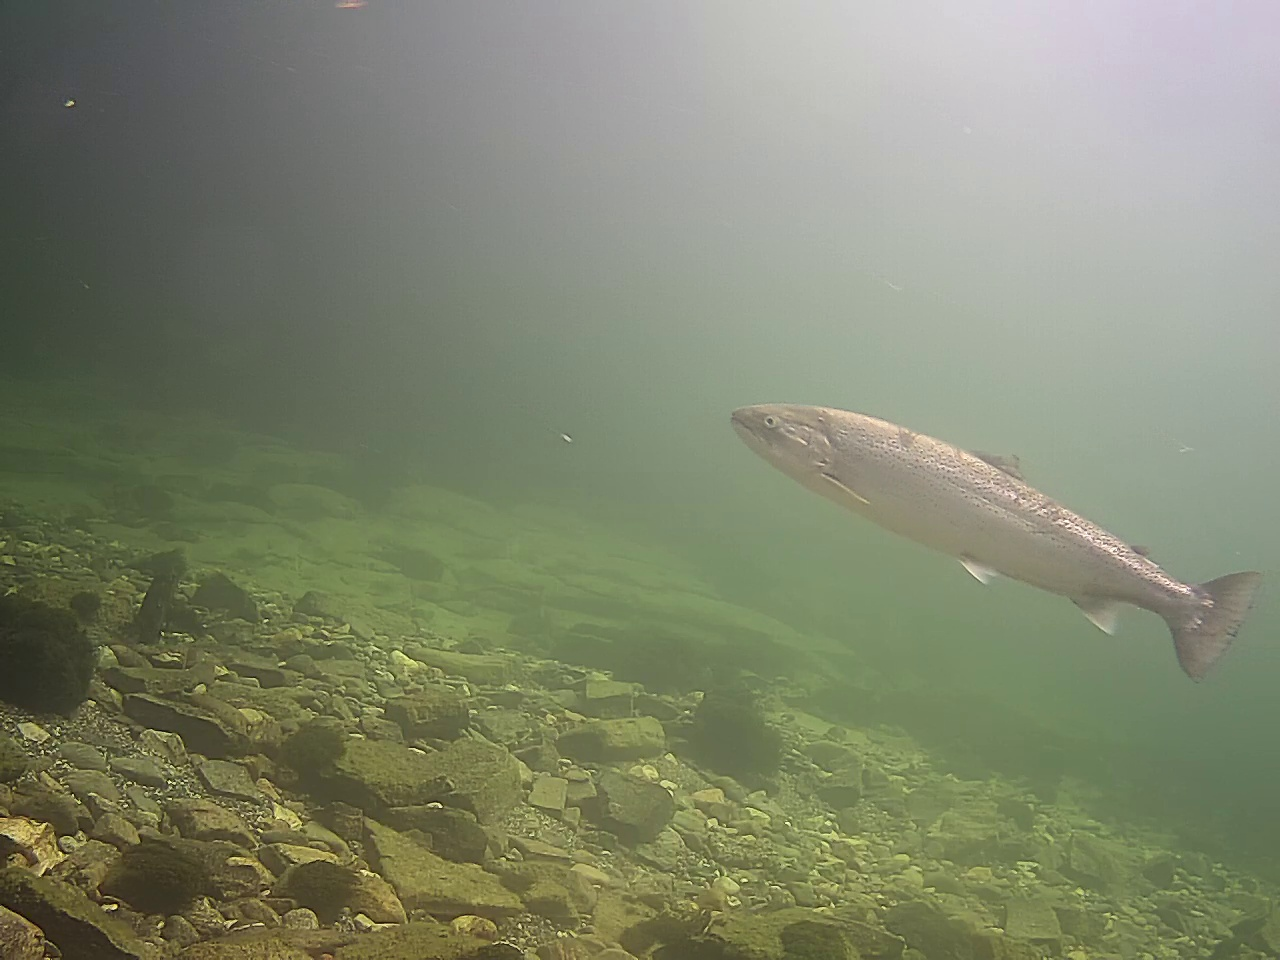salmon: (728, 401, 1265, 686)
